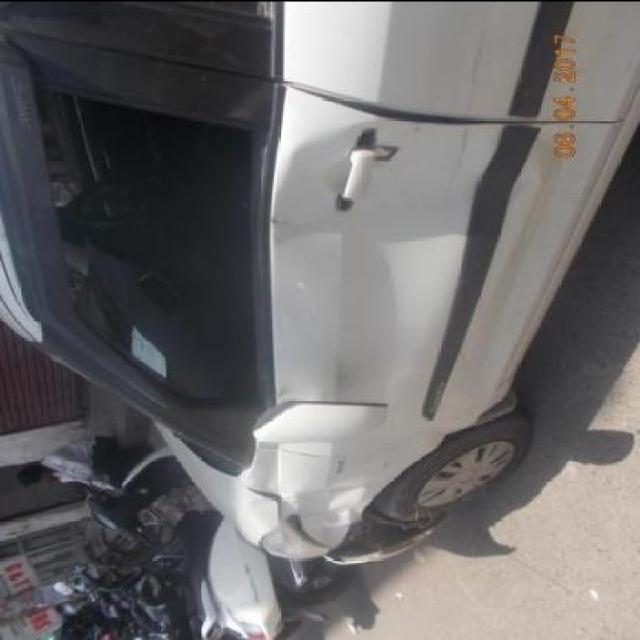damage: (239, 387, 512, 546), (272, 118, 544, 243)
